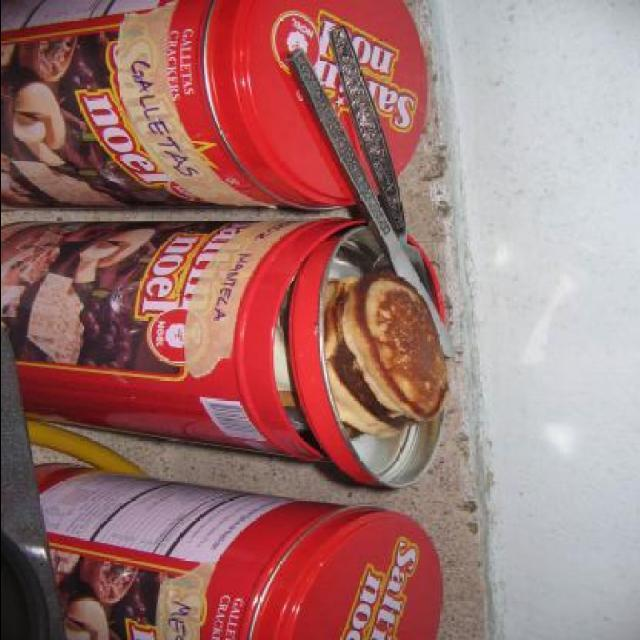Pancake: (334, 259, 436, 430)
